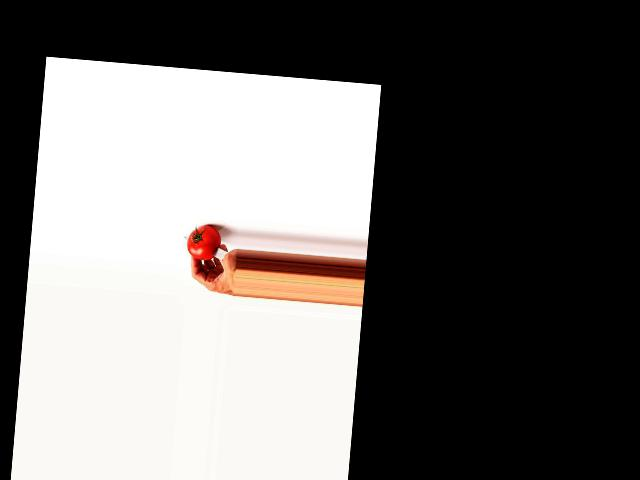tomato: (186, 224, 221, 261)
